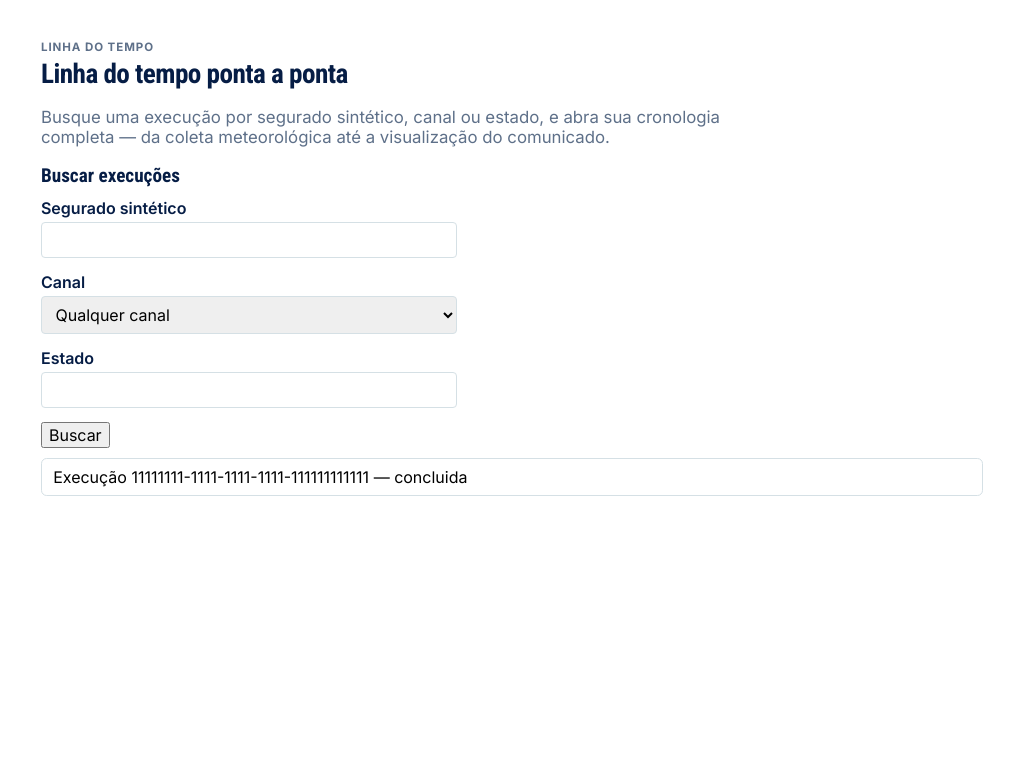
Test: agrupamento por mensagem (TIMELINE-02) › mantém as duas críticas/gerações da mesma mensagem dentro do mesmo grupo
The width and height of the screenshot is (1024, 768).
Click the button "Execução 11111111-1111-1111-1111-111111111111 — concluida" at (92, 477), box x1=41 y1=458 x2=983 y2=496
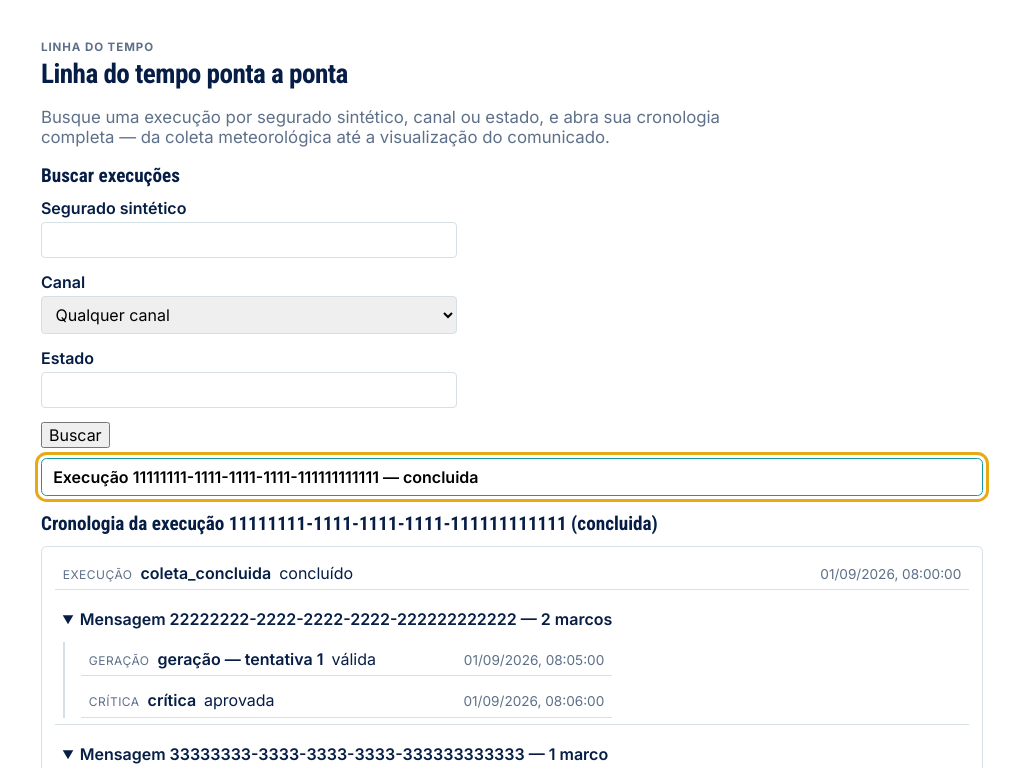
Expected: the text "geração — tentativa 1" is shown, x1=158 y1=648 x2=324 y2=668
Expected: the text "crítica" is shown, x1=148 y1=690 x2=196 y2=710
